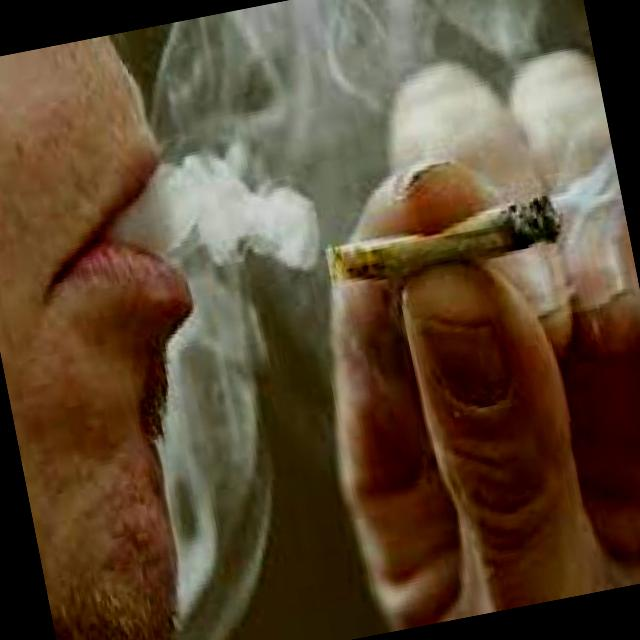cigarette: (316, 184, 579, 298)
